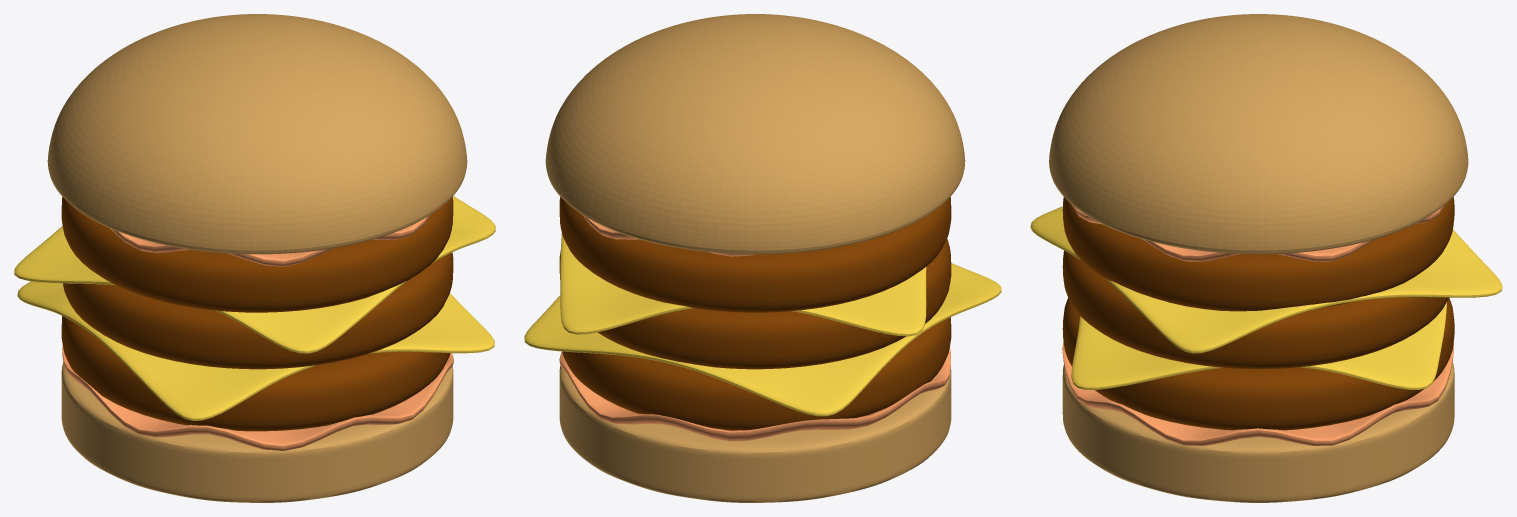
The model's file is hamburguesa.glb.
The picture shows the model from 3 angles, left to right: view 1: azimuth 30°, elevation 25°; view 2: azimuth 150°, elevation 25°; view 3: azimuth 270°, elevation 25°; orthographic projection.
Visible parts, largest first — view 1: panArriba, panAbajo, carne3, carne2, carne1, queso1, queso2, pollo1, pollo2; view 2: panArriba, panAbajo, carne3, carne1, carne2, queso1, queso2, pollo1; view 3: panArriba, panAbajo, carne3, carne2, carne1, queso2, queso1, pollo1, pollo2.
Part boxes in pixels (x1,y1,x2,y2): panArriba: [47, 14, 467, 254]; panAbajo: [61, 362, 453, 502]; carne3: [61, 197, 453, 312]; carne2: [63, 252, 453, 369]; carne1: [61, 316, 450, 431]; queso1: [17, 281, 494, 420]; queso2: [14, 196, 495, 353]; pollo1: [62, 346, 453, 450]; pollo2: [110, 215, 430, 266]; panArriba: [545, 14, 965, 254]; panAbajo: [559, 365, 951, 502]; carne3: [559, 197, 951, 312]; carne1: [562, 317, 951, 430]; carne2: [559, 238, 951, 369]; queso1: [524, 263, 1001, 416]; queso2: [560, 233, 926, 336]; pollo1: [559, 347, 950, 441]; panArriba: [1049, 14, 1468, 254]; panAbajo: [1062, 362, 1454, 502]; carne3: [1062, 197, 1454, 311]; carne2: [1062, 250, 1448, 369]; carne1: [1062, 298, 1454, 430]; queso2: [1030, 206, 1502, 353]; queso1: [1071, 302, 1446, 389]; pollo1: [1062, 342, 1453, 445]; pollo2: [1071, 204, 1444, 261].
Size of the model in its own units: 2.35 by 2.09 by 2.35.
